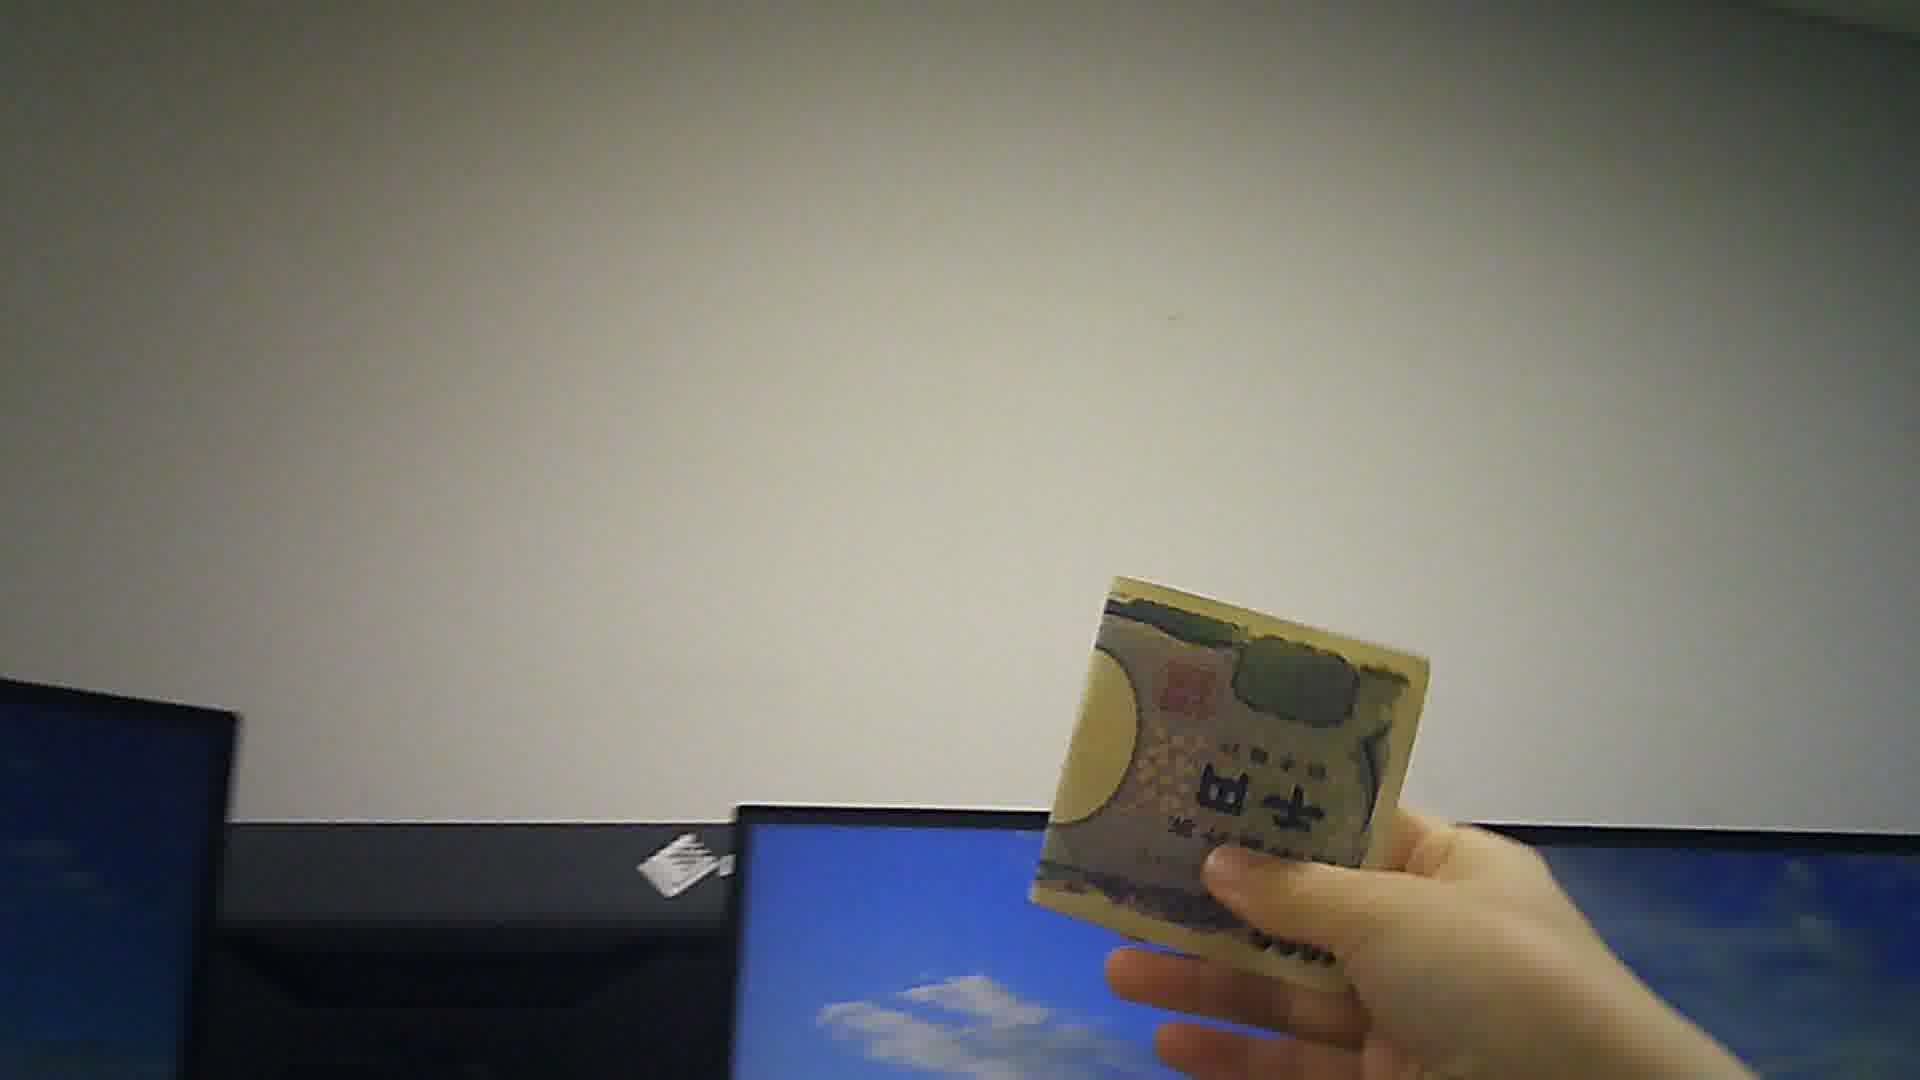1,000 Yen: (1030, 559, 1429, 986)
